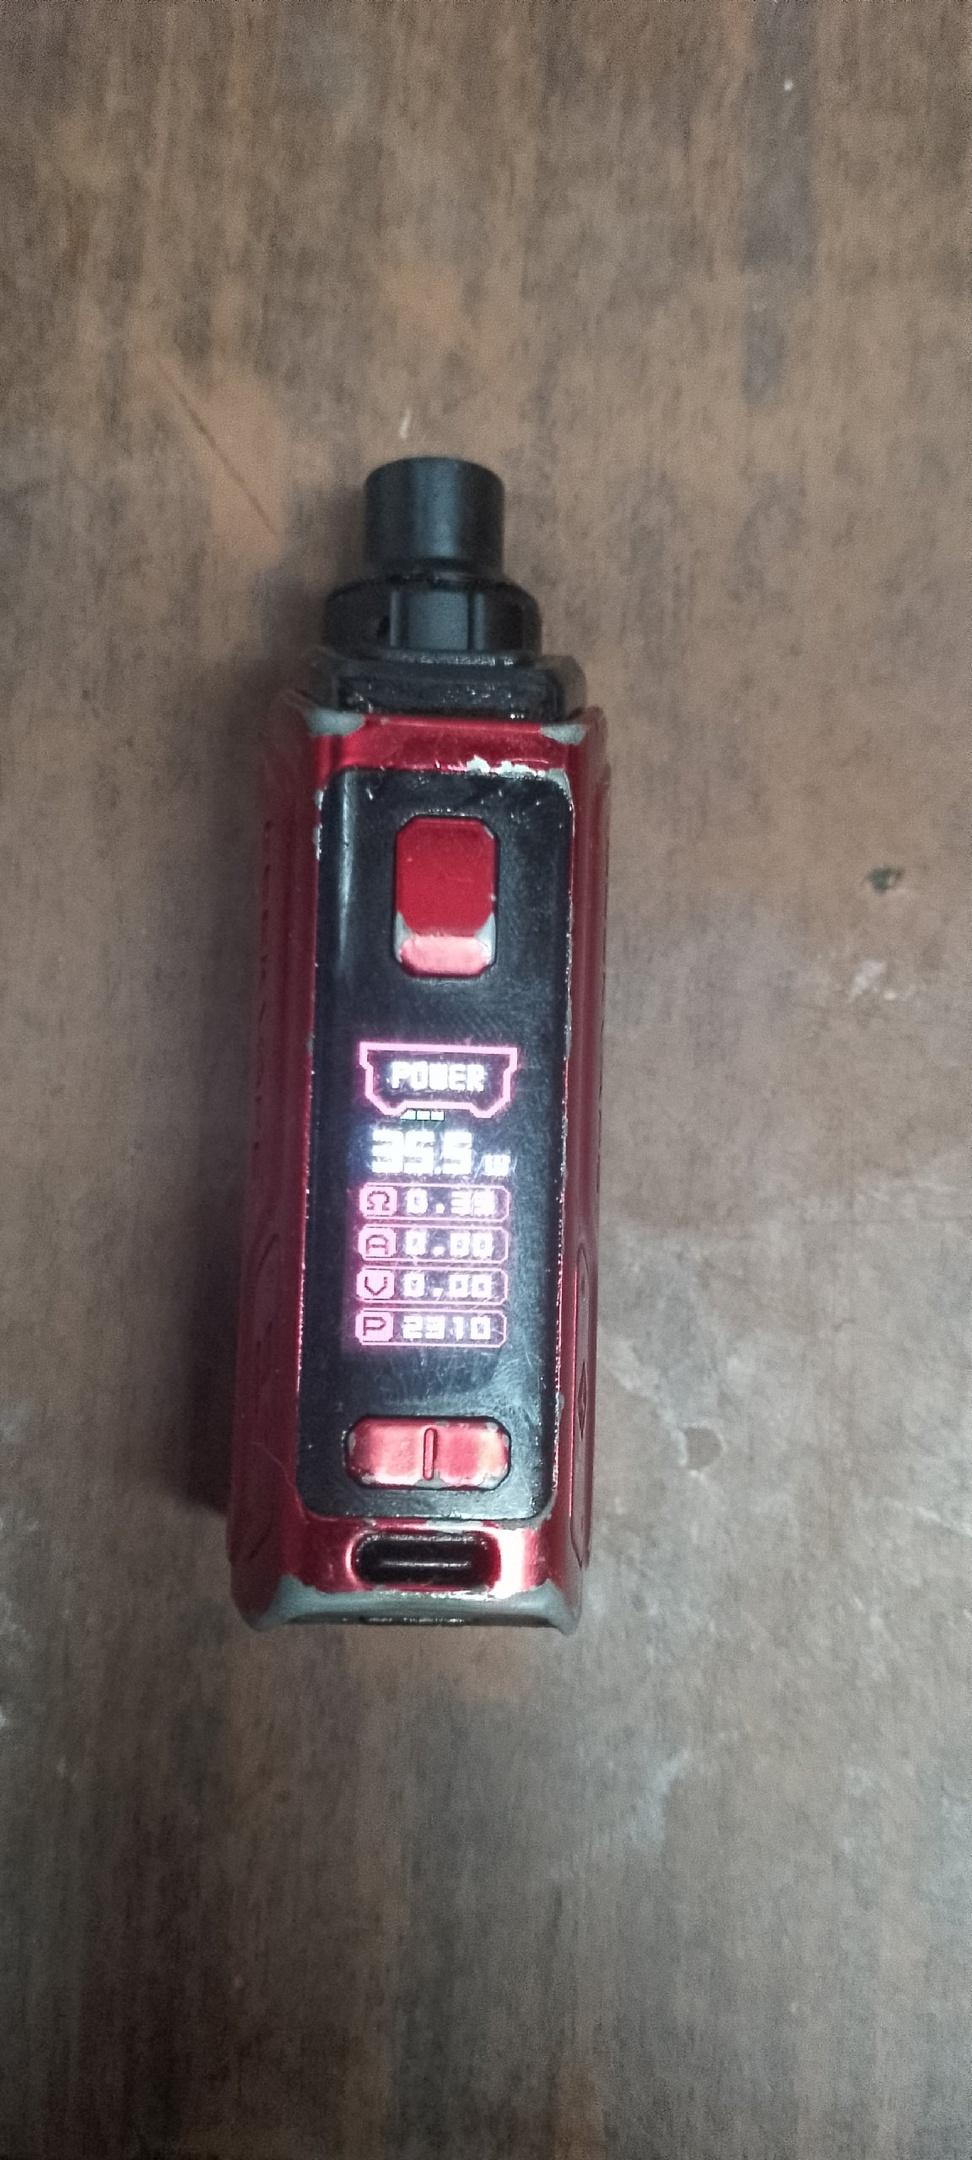Vape: (229, 457, 606, 1620)
